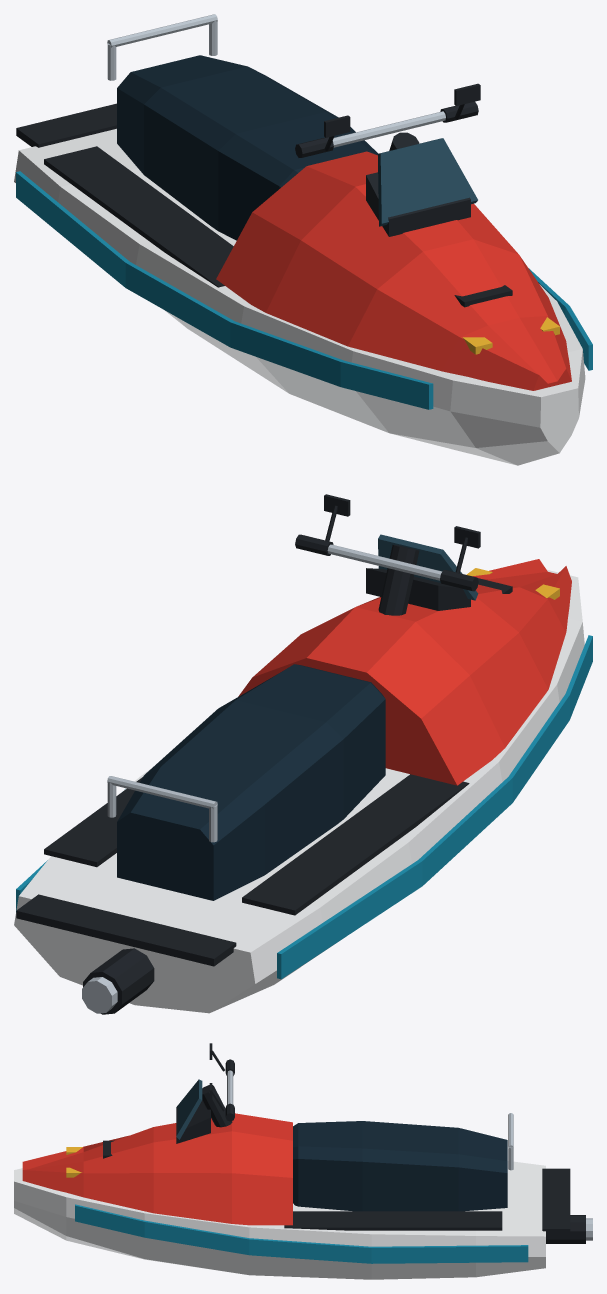
File: jetski.glb
The picture shows the model from 3 angles, top to bottom: view 1: azimuth 30°, elevation 25°; view 2: azimuth 150°, elevation 25°; view 3: azimuth 270°, elevation 25°; orthographic projection. The views are drawn at different scales.
Parts seen in each view (by area): view 1: jetski; view 2: jetski; view 3: jetski.
Part boxes in pixels (left/top/right/bottom): jetski: left=14, top=14, right=592, bottom=465; jetski: left=14, top=494, right=592, bottom=1014; jetski: left=14, top=1043, right=592, bottom=1279.
Size of the model in its own units: 1.23 by 1.27 by 3.32.
